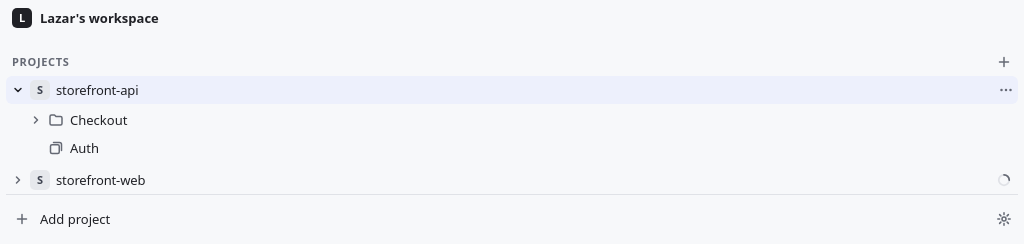
Test case: the Home sidebar › offers a folder's boards and Rename…, but no folder inside it
Right-click the text "Checkout" at (99, 120), box [70, 111, 127, 129]
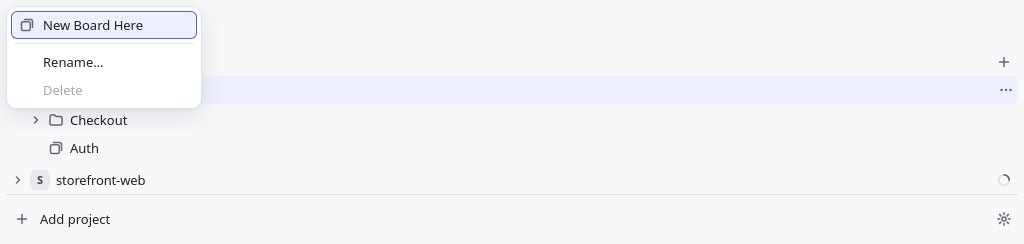
Expected: the menu items read "New Board Here", "Rename…", "Delete", in this order, [11, 11, 197, 39]; [43, 53, 104, 71]; [43, 81, 82, 99]
